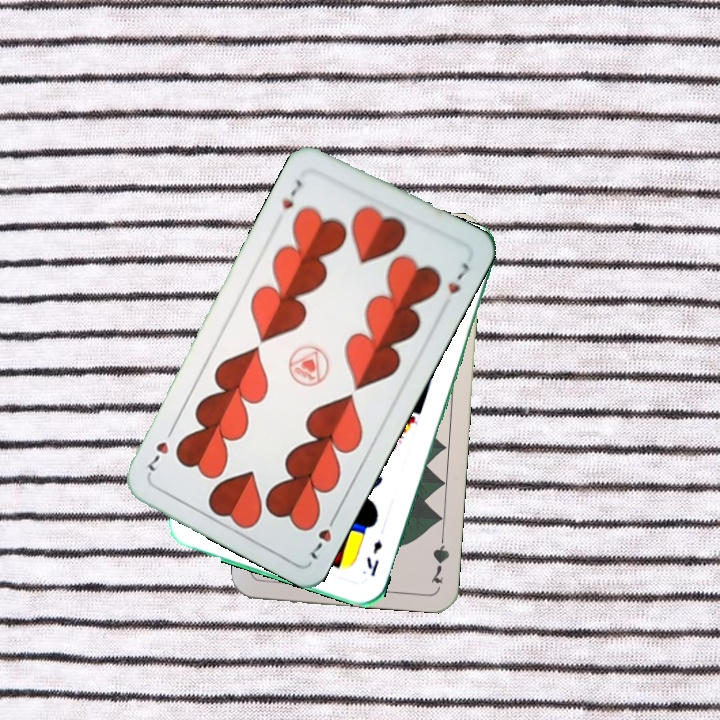EK: (362, 536, 385, 579)
G7: (427, 528, 452, 586)
H7: (306, 509, 340, 562), (278, 175, 306, 212)
